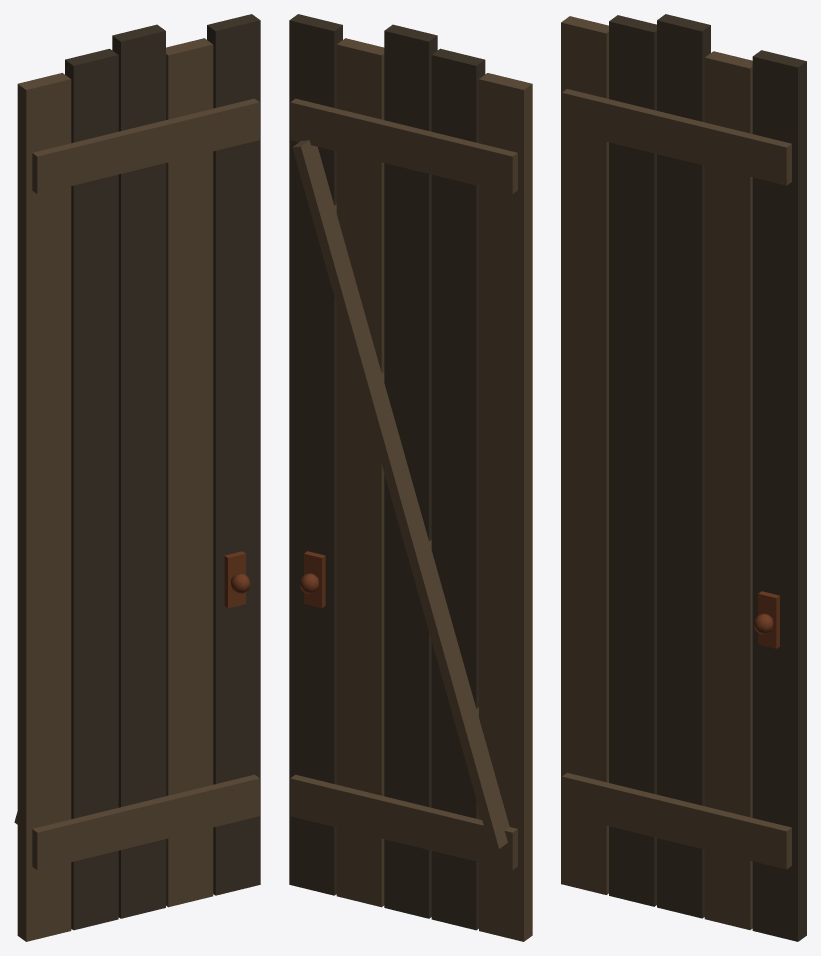
The model's file is SM_Door_abandoned_80x280.fbx.
3 renders of one model, left to right at view 1: azimuth 30°, elevation 25°; view 2: azimuth 150°, elevation 25°; view 3: azimuth 330°, elevation 25°, orthographic.
Parts seen in each view (by area): view 1: SM_Door_abandoned_80x280; view 2: SM_Door_abandoned_80x280; view 3: SM_Door_abandoned_80x280.
Part boxes in pixels (x1=…): SM_Door_abandoned_80x280: x1=14, y1=14, x2=260, y2=941; SM_Door_abandoned_80x280: x1=289, y1=14, x2=532, y2=941; SM_Door_abandoned_80x280: x1=561, y1=14, x2=806, y2=941.
Bounding box in the file's own units: 0.78 × 2.79 × 0.2.
